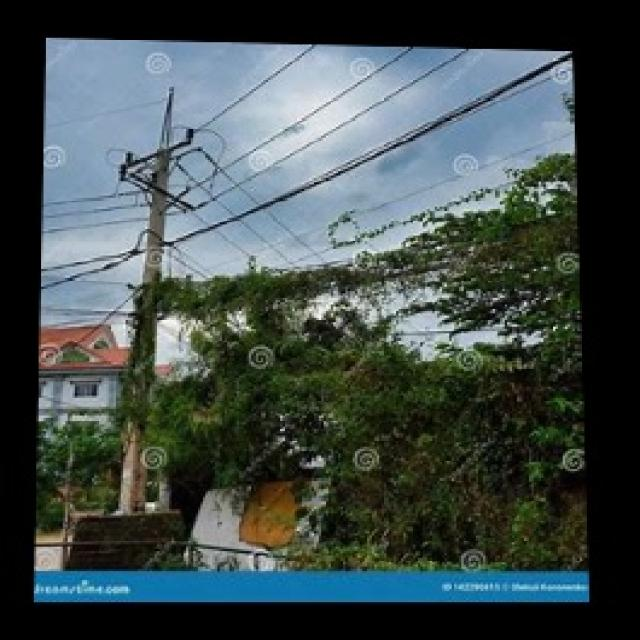critical vegetation: (117, 238, 581, 451)
